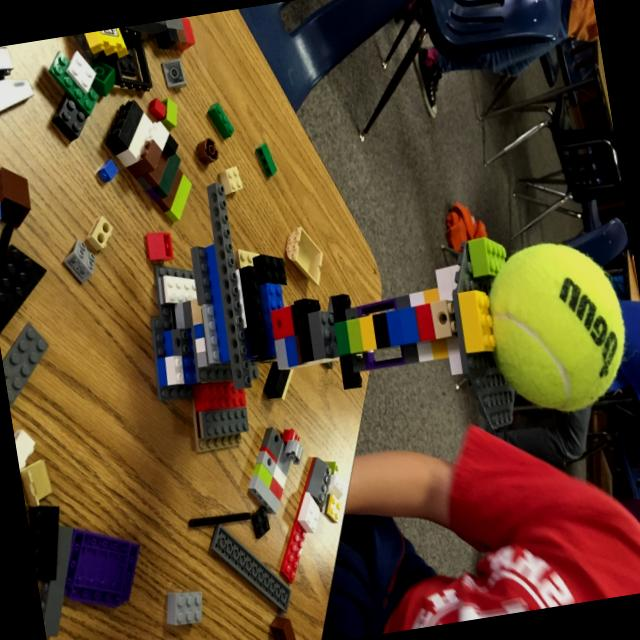Tennis Ball: (480, 231, 638, 426)
